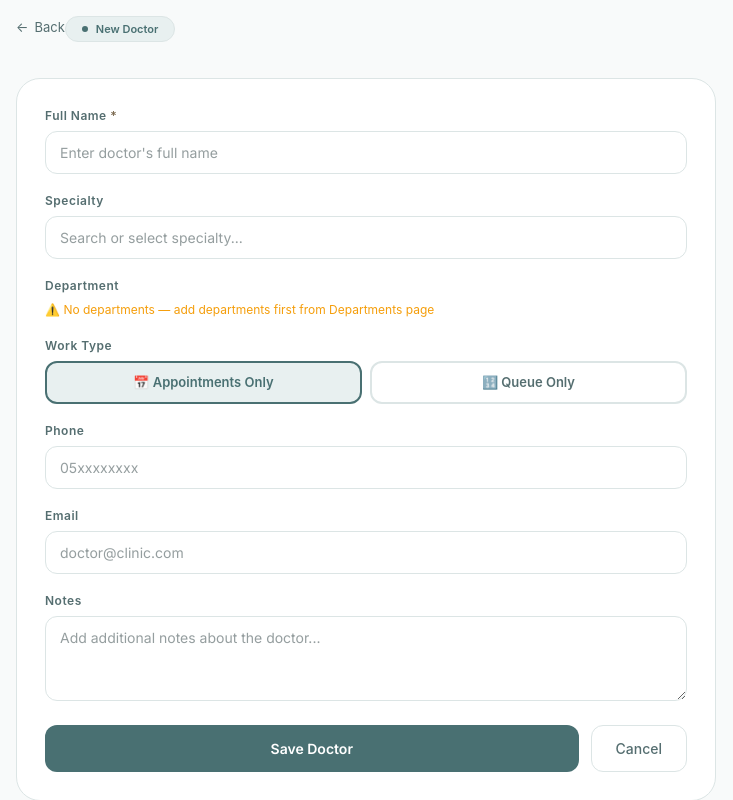
Scenario: AddDoctor › shows a validation error for an invalid email and does not submit
In the field with placeholder "Enter doctor's full name": (366, 152) left=45, top=130, right=687, bottom=174, type "Dr. Ali"
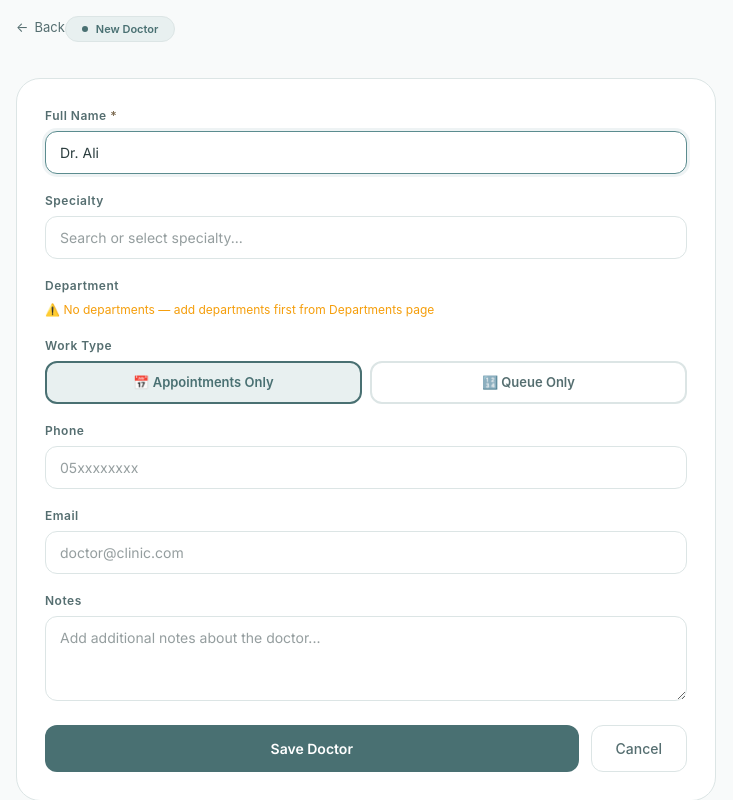
In the field with placeholder "doctor@clinic.com": (366, 552) left=45, top=531, right=687, bottom=574, type "ali@localhost"
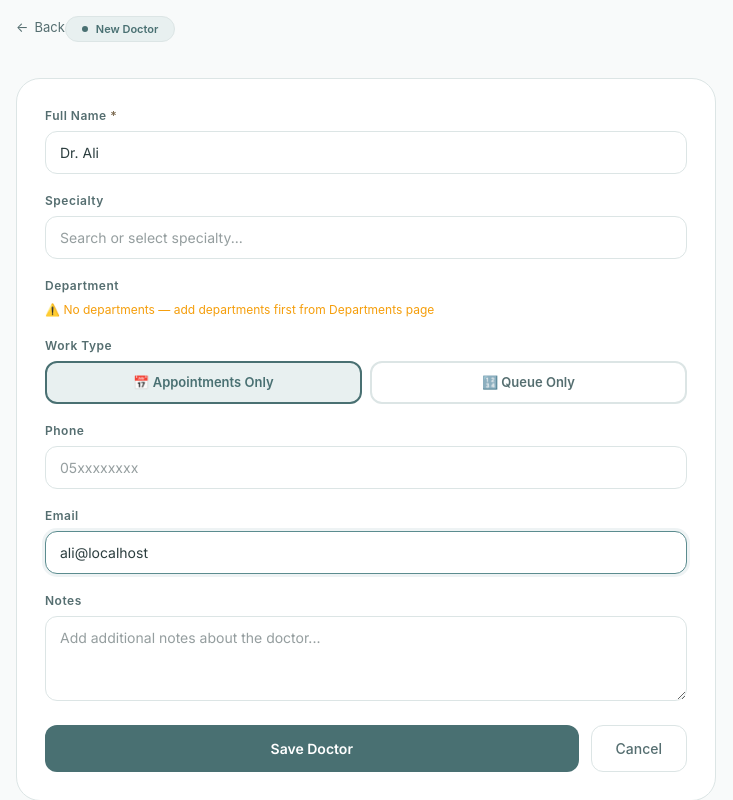
Click the button "Save Doctor": click(312, 748) left=45, top=725, right=578, bottom=772
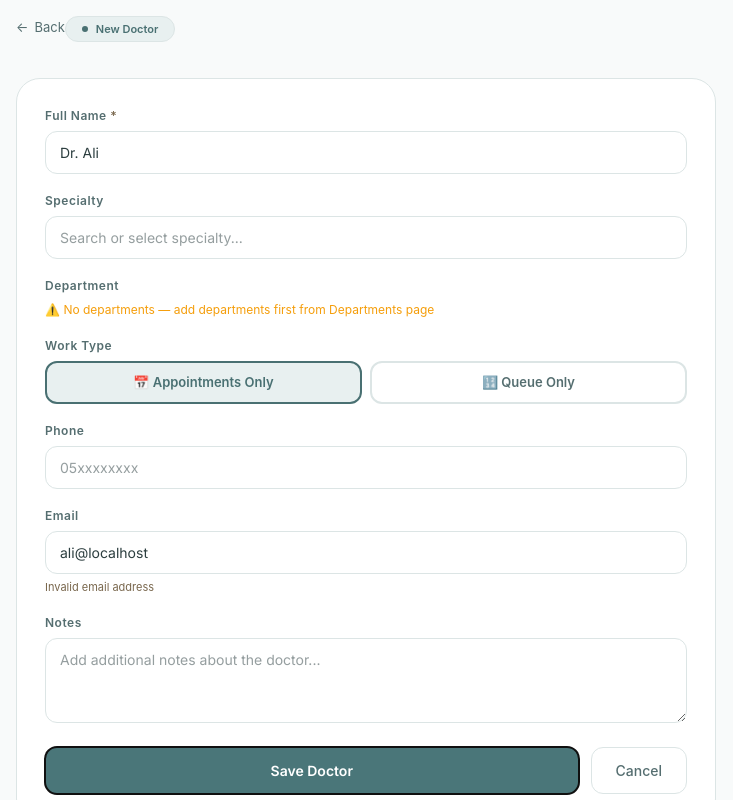
expect the text "Invalid email address" is shown: met, box left=45, top=580, right=154, bottom=594
